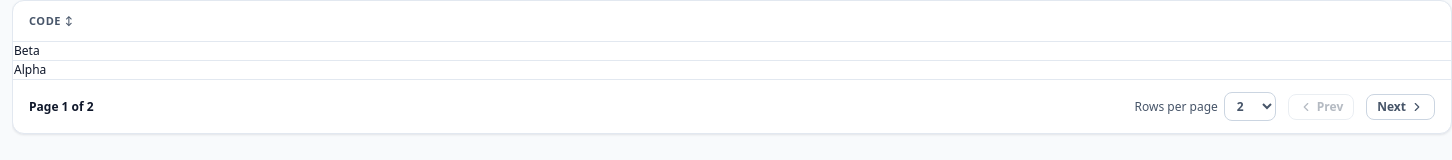
Test case: DataTable (client mode) › paginates rows and exposes the pagination contract
The image size is (1452, 160).
Expected: the element with test id "pagination" is shown, [13,79,1451,133]
Expected: the text with test id "pagination-page" reads "Page 1 of 2", [29,98,94,114]
Click the button with test id "pagination-next" at (1401, 106), box [1366,94,1435,120]
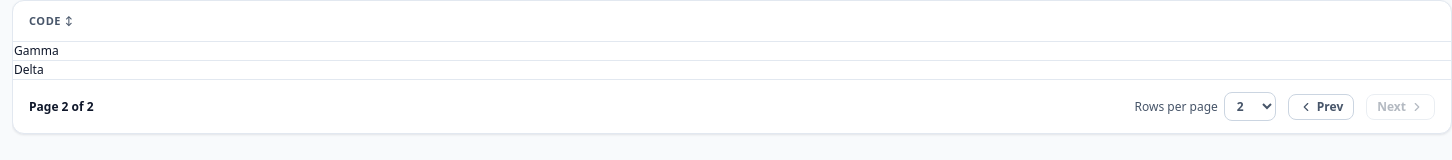
Expected: the text with test id "pagination-page" reads "Page 2 of 2", [29,98,94,114]
Expected: the text "Gamma" is shown, [13,42,1451,60]
Expected: the text "Delta" is shown, [13,60,1451,79]
Click the button with test id "pagination-prev" at (1321, 106), box [1288,94,1354,120]
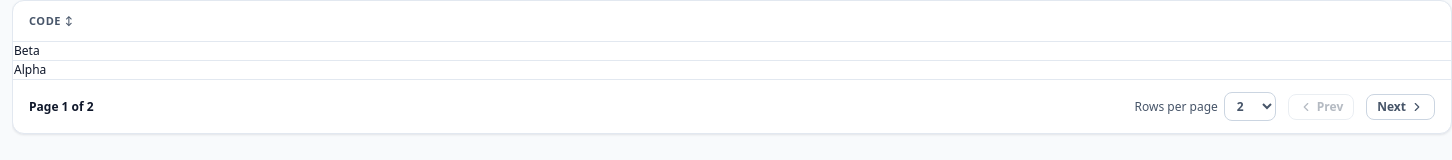
Expected: the text with test id "pagination-page" reads "Page 1 of 2", [29,98,94,114]
